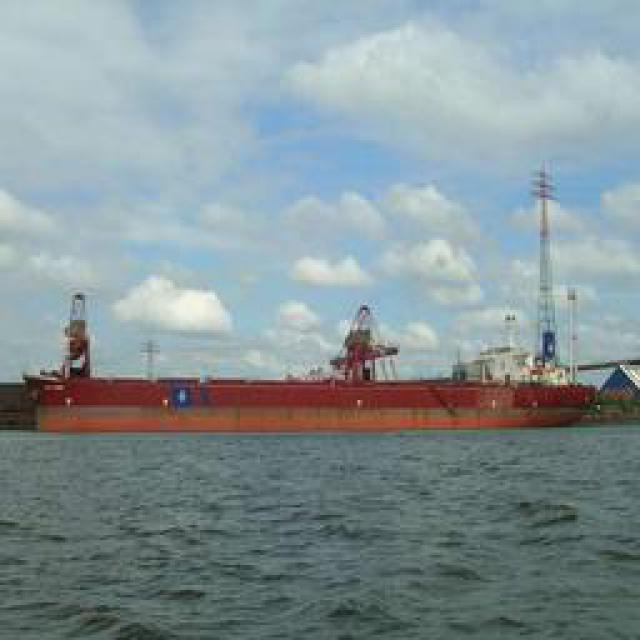Ship: (22, 356, 605, 434)
